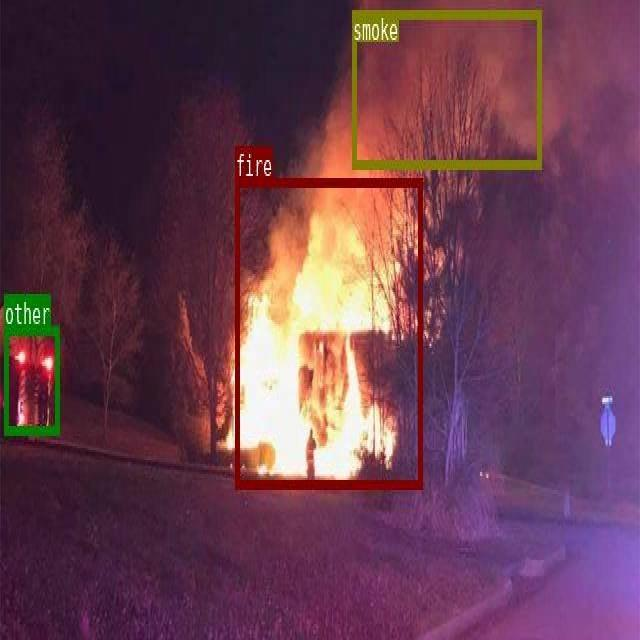fire: (235, 177, 422, 487)
smoke: (352, 9, 541, 167)
